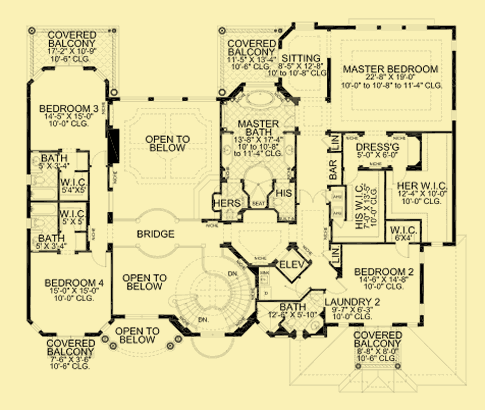door: (296, 189, 328, 206), (325, 278, 347, 296), (91, 248, 108, 270), (390, 167, 408, 185), (396, 241, 413, 259)
large_sink: (29, 173, 46, 186), (30, 215, 45, 229)
small_sink: (282, 132, 298, 166), (220, 133, 233, 165), (308, 317, 321, 331)
stairs: (169, 253, 255, 336)
tub: (243, 89, 280, 107), (28, 186, 59, 202), (29, 202, 57, 217)
windows: (115, 94, 219, 102), (354, 23, 429, 31), (362, 319, 395, 329), (243, 79, 279, 88), (291, 20, 319, 31), (120, 313, 161, 320), (30, 67, 44, 82), (54, 331, 83, 338), (93, 66, 107, 80), (449, 105, 458, 124), (24, 216, 32, 231), (24, 172, 32, 187), (428, 241, 445, 247), (451, 37, 456, 54)
